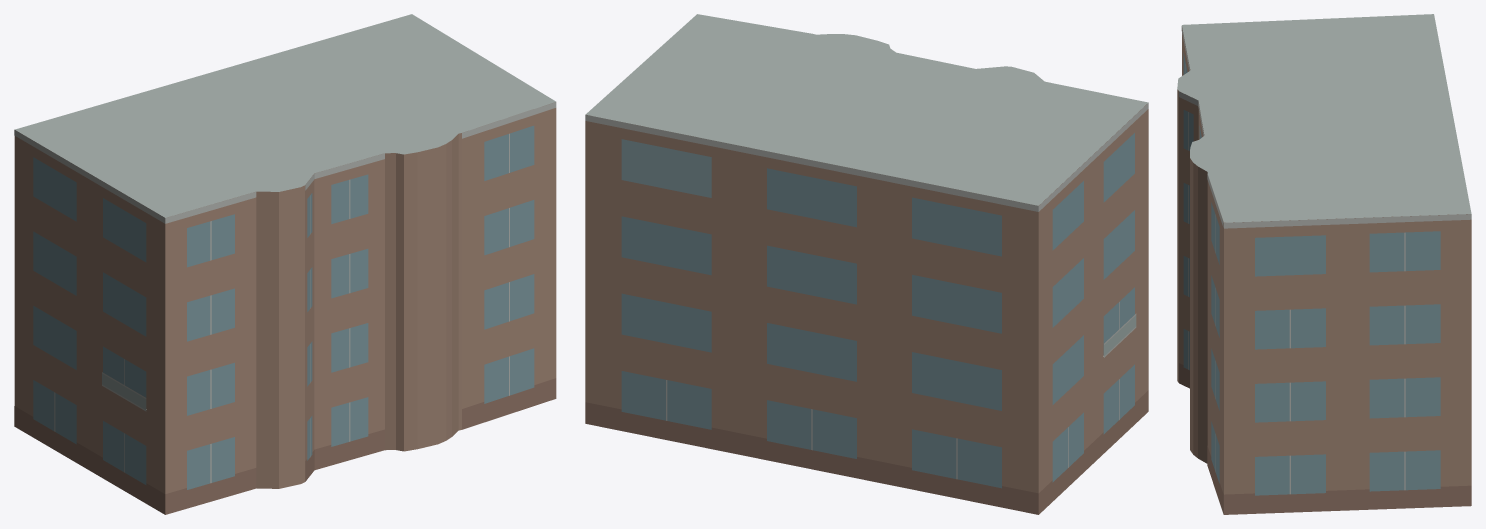
Rendered from survey-upis-32905887.glb.
3 views of the same model, side by side, from view 1: azimuth 30°, elevation 25°; view 2: azimuth 150°, elevation 25°; view 3: azimuth 270°, elevation 25° (orthographic). The views are drawn at different scales.
Parts seen in each view (by area): view 1: survey-upis-32905887.tmp; view 2: survey-upis-32905887.tmp; view 3: survey-upis-32905887.tmp.
Boxes of the visible parts, x1,y1,x2,y2 form: survey-upis-32905887.tmp: (14, 14, 556, 514); survey-upis-32905887.tmp: (585, 14, 1148, 514); survey-upis-32905887.tmp: (1177, 14, 1471, 514).
Size of the model in its own units: 18.71 by 12.2 by 11.15.
